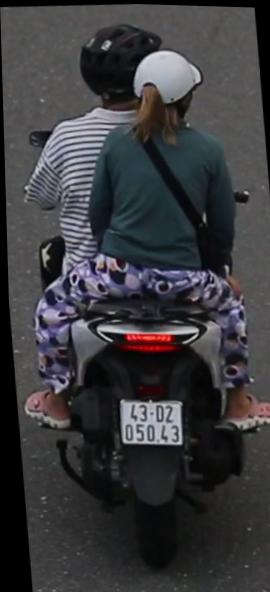LP: (114, 390, 186, 451)
helmet: (74, 15, 169, 119), (130, 42, 210, 138)
